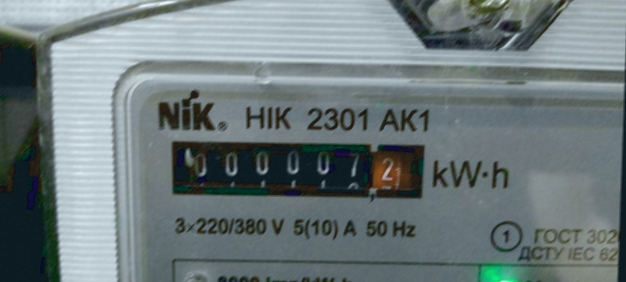0: (252, 148, 271, 176), (222, 149, 240, 178), (314, 147, 331, 176), (191, 150, 209, 177), (284, 147, 300, 175)
2: (379, 154, 396, 183)
7: (344, 149, 361, 179)
screen: (161, 127, 437, 209)
